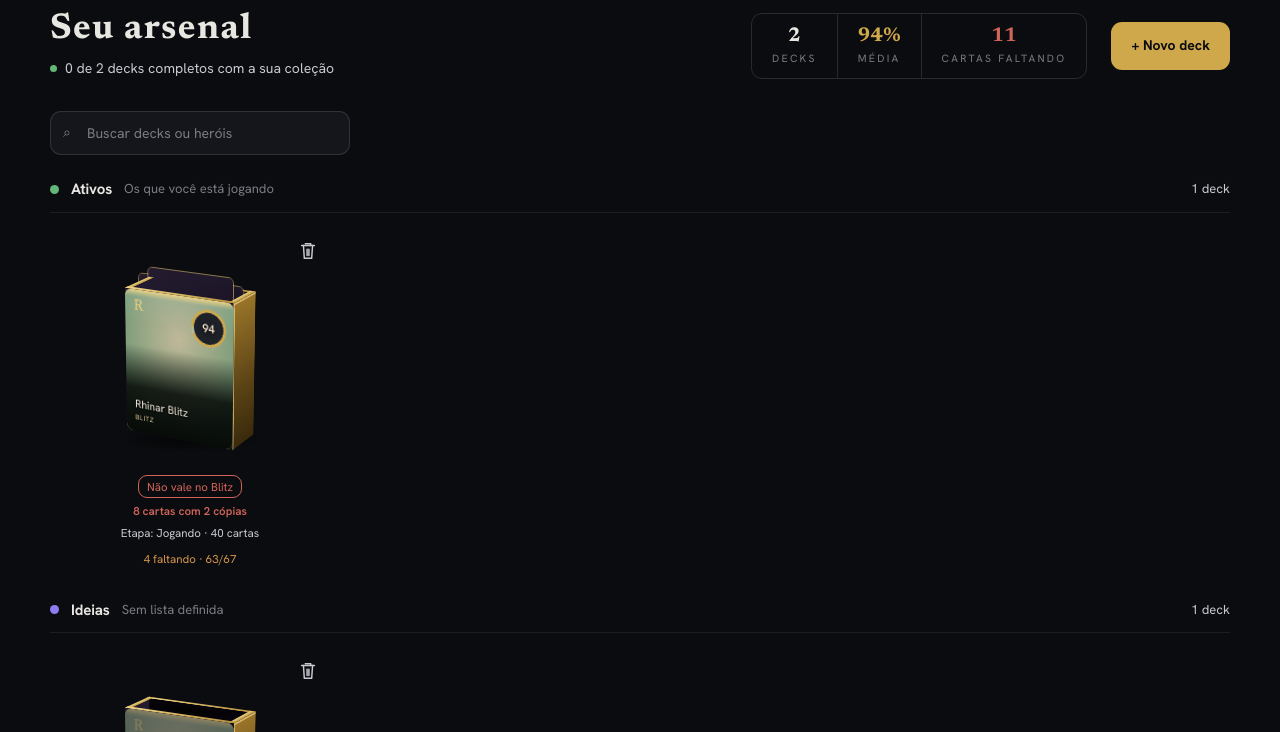
Test: Home route, deleting a deck › matches r2-delete-toast-phone with the stage rule
Click the button named "Excluir Rhinar Blitz v2": point(308, 671) [286,649,330,693]
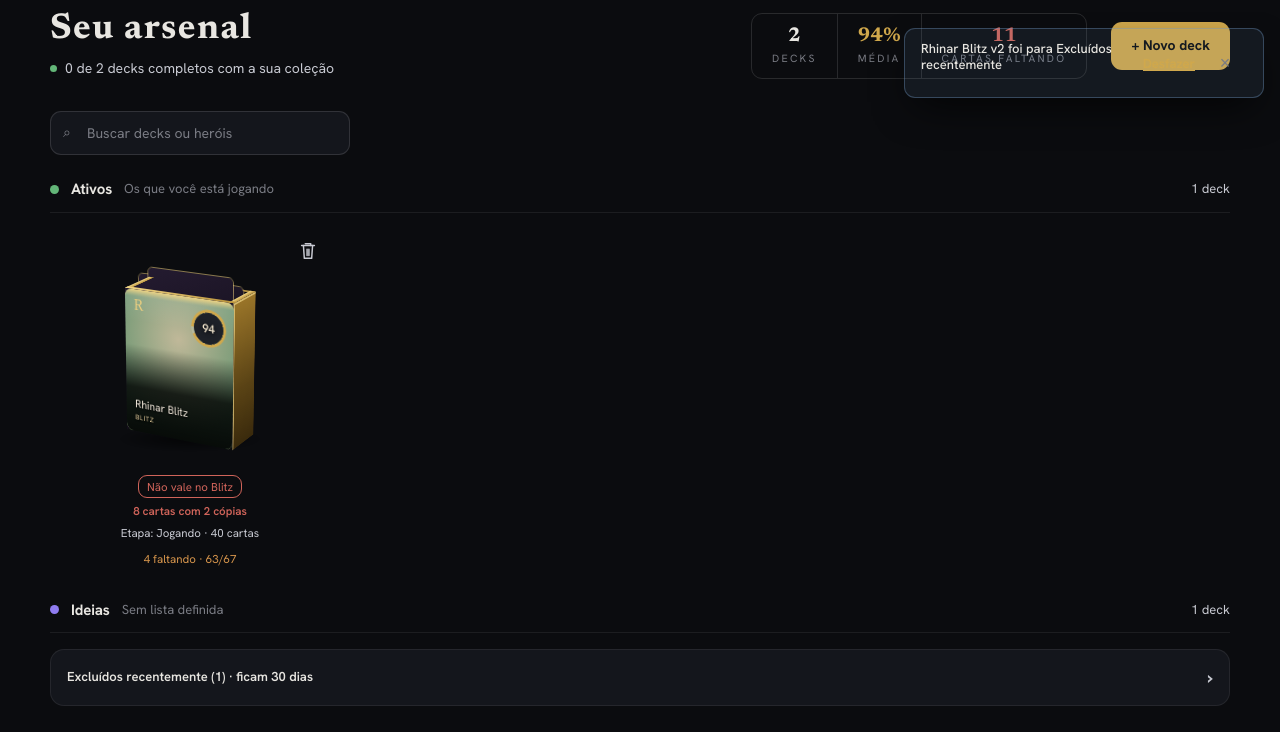
Check: the element labelled "Rhinar Blitz" shows "Não vale no Blitz", box [147,479,233,494]
Check: the button "Desfazer" is shown, box [1143,54,1195,72]
